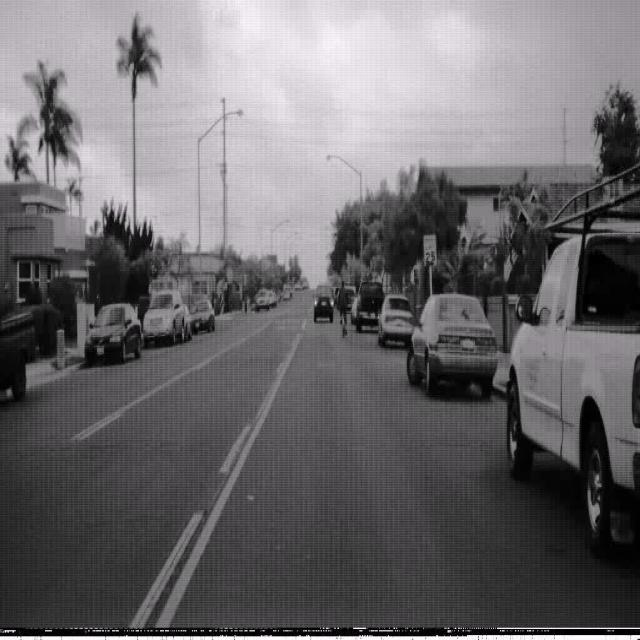speedLimit25: (422, 233, 437, 267)
